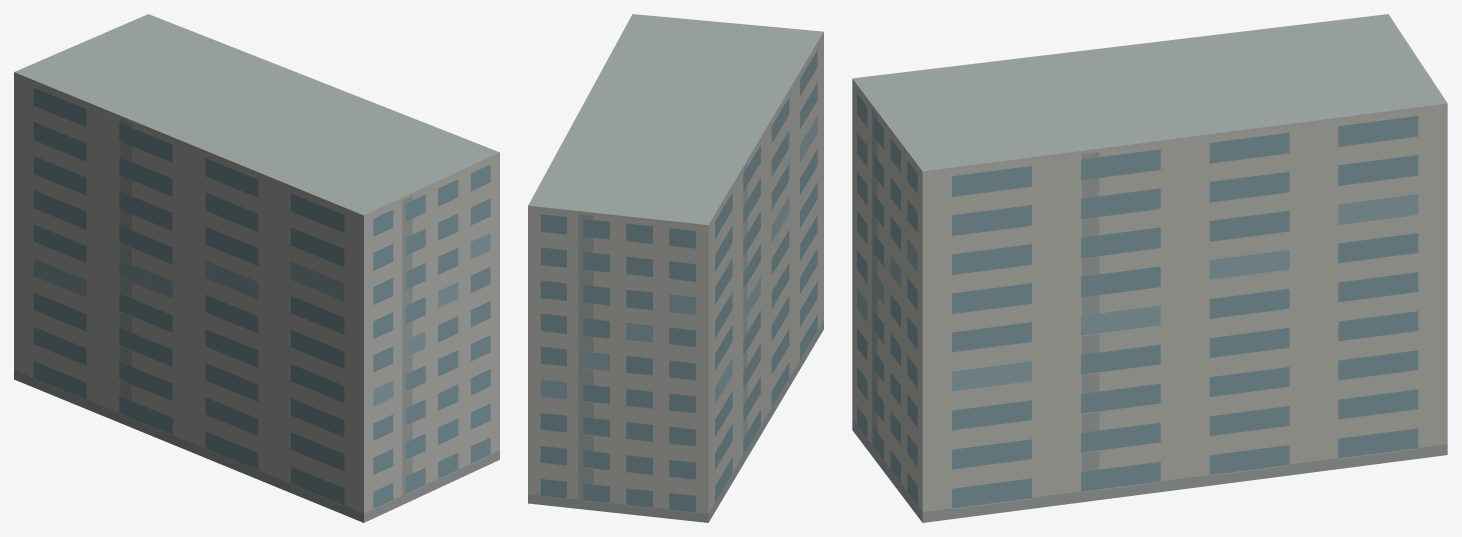
Rendered from residential-03e73785-ef62-422d-9cfe-8b6f7776fa85.glb.
3 renders of one model, left to right at view 1: azimuth 30°, elevation 25°; view 2: azimuth 150°, elevation 25°; view 3: azimuth 270°, elevation 25°, orthographic. The views are drawn at different scales.
Visible parts, largest first — view 1: residential-03e73785-ef62-422d-9cfe-8b6f7776fa85.tmp; view 2: residential-03e73785-ef62-422d-9cfe-8b6f7776fa85.tmp; view 3: residential-03e73785-ef62-422d-9cfe-8b6f7776fa85.tmp.
Boxes of the visible parts, x1,y1,x2,y2 form: residential-03e73785-ef62-422d-9cfe-8b6f7776fa85.tmp: (14,14,499,522); residential-03e73785-ef62-422d-9cfe-8b6f7776fa85.tmp: (528,14,823,522); residential-03e73785-ef62-422d-9cfe-8b6f7776fa85.tmp: (852,14,1447,522).
Bounding box in the file's own units: 24.98 × 26 × 39.93.
